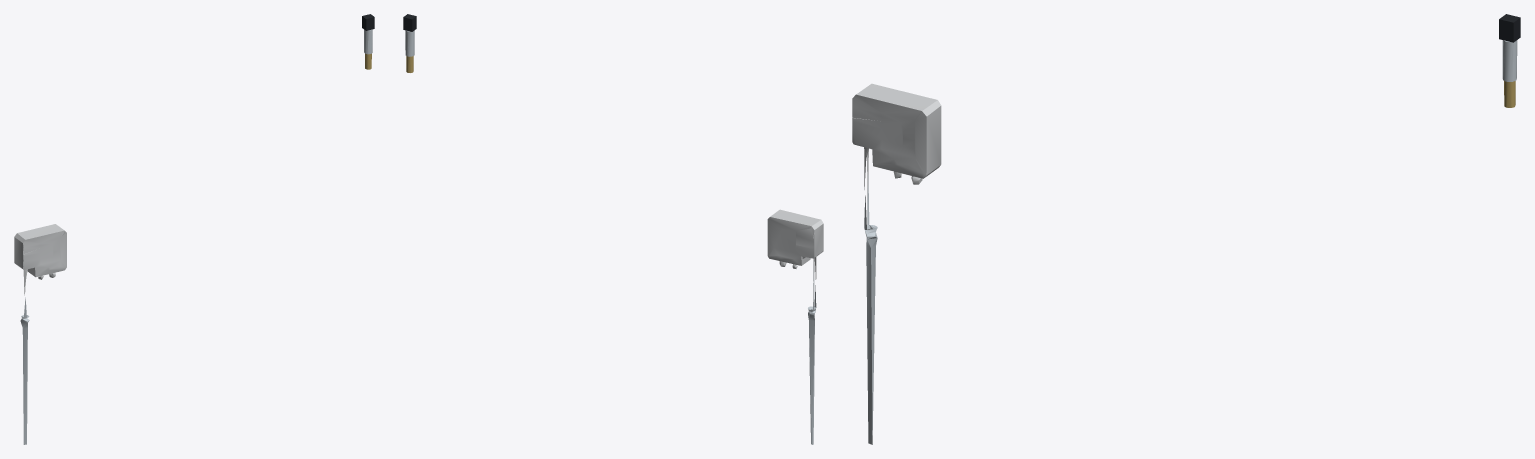
File: trim-comfort.glb
The picture shows the model from 3 angles, left to right: view 1: azimuth 30°, elevation 25°; view 2: azimuth 150°, elevation 25°; view 3: azimuth 330°, elevation 25°; orthographic projection. The views are drawn at different scales.
Parts seen in each view (by area): view 1: lcs600, pressure_transmitter; view 2: lcs600, pressure_transmitter; view 3: lcs600, pressure_transmitter.
Boxes of the visible parts, box(x1,y1,x2,y2) form: lcs600: box(14, 224, 66, 444); pressure_transmitter: box(362, 14, 374, 69); lcs600: box(767, 209, 823, 444); pressure_transmitter: box(403, 14, 416, 72); lcs600: box(852, 83, 941, 444); pressure_transmitter: box(1499, 14, 1520, 107).
Bounding box in the file's own units: 1.48 × 1.24 × 0.1697.
